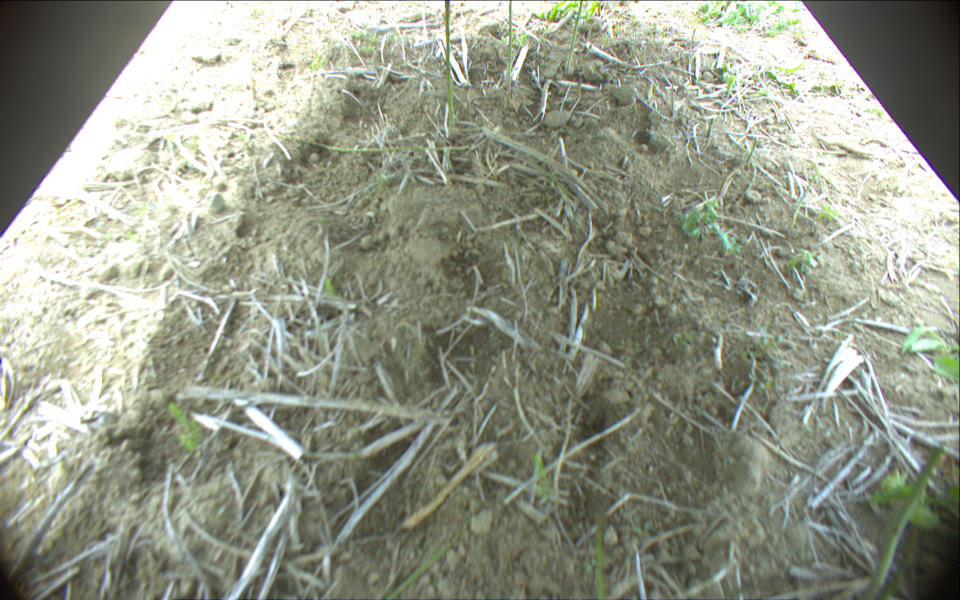aspa: (861, 445, 946, 600), (279, 135, 470, 156), (442, 1, 455, 137), (593, 513, 610, 600), (565, 1, 583, 72), (794, 173, 818, 216), (744, 135, 762, 168), (508, 1, 513, 96), (707, 115, 715, 138)
